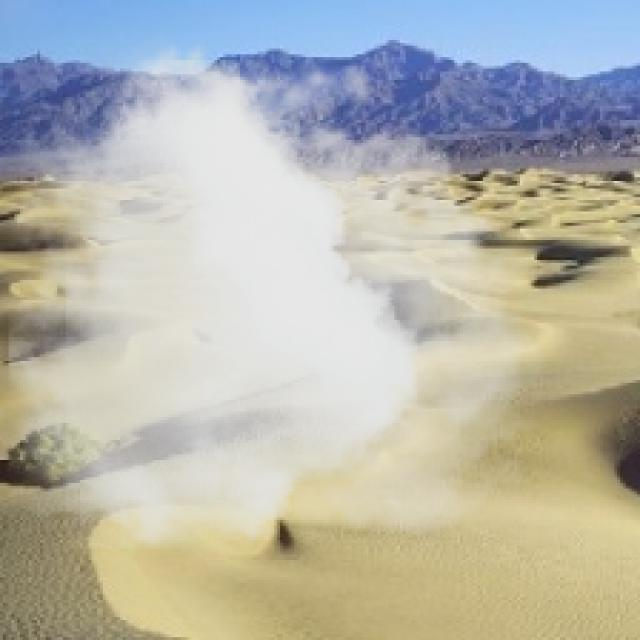smoke: (8, 29, 563, 548)
